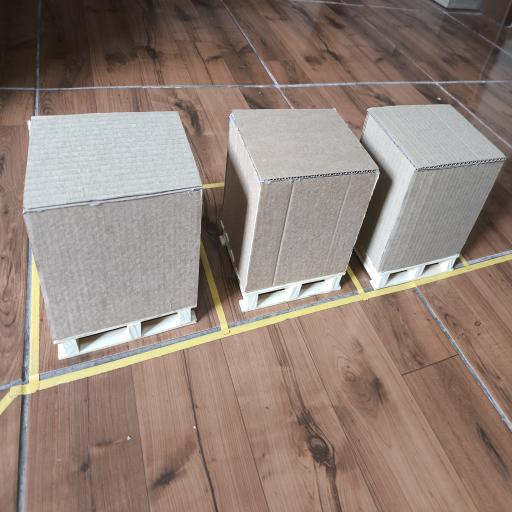pallet: (221, 225, 345, 312), (55, 308, 196, 359), (355, 242, 458, 289)
